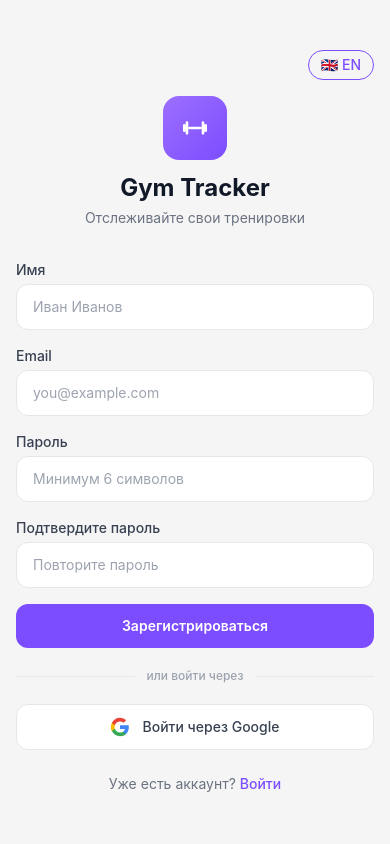
Test: Register Page — пользовательские сценарии › показывает ошибку если пароли не совпадают
Step 1. Type "Иван" into the field with placeholder "Иван Иванов" → {"x": 195, "y": 307}, box [16,284,374,330]
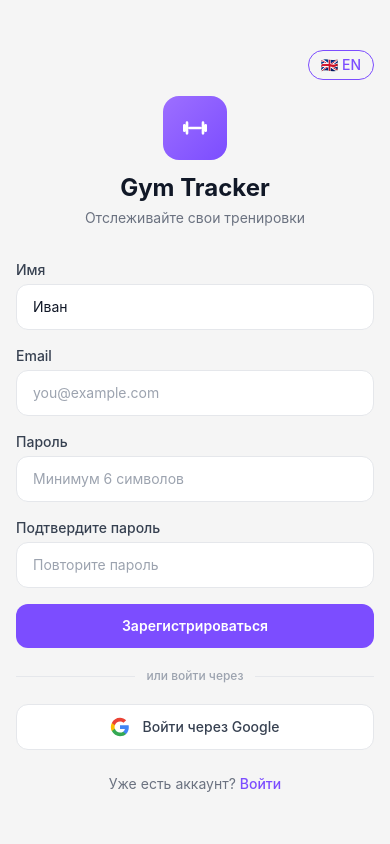
Step 2. Type "ivan@test.com" into the field with placeholder "you@example.com" → {"x": 195, "y": 393}, box [16,370,374,416]
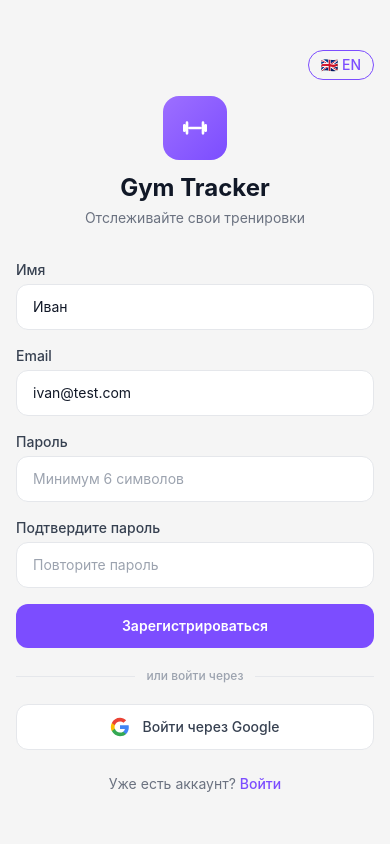
Step 3. Type "password123" into the password field with placeholder "Минимум 6 символов" → {"x": 195, "y": 479}, box [16,456,374,502]
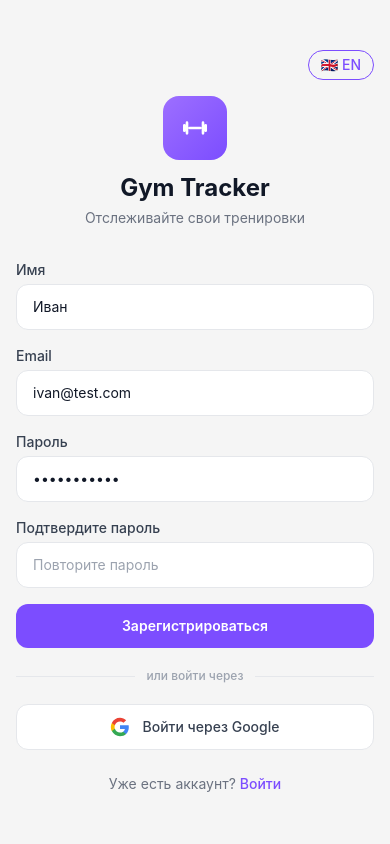
Step 4. Type "password456" into the password field with placeholder "Повторите пароль" → {"x": 195, "y": 565}, box [16,542,374,588]
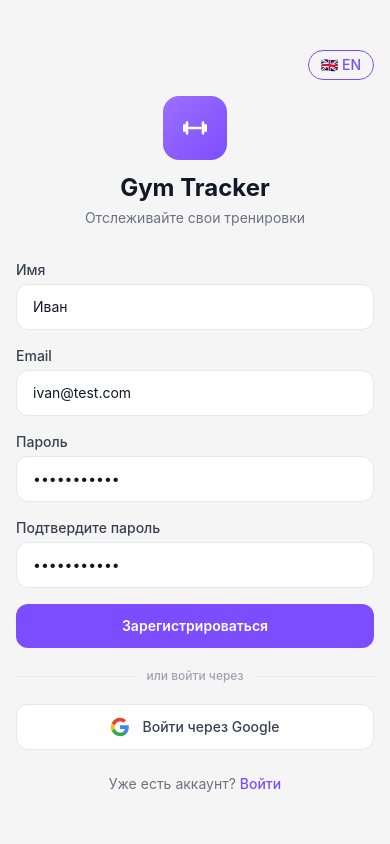
Step 5. Click the button "Зарегистрироваться" → {"x": 195, "y": 626}, box [16,604,374,648]
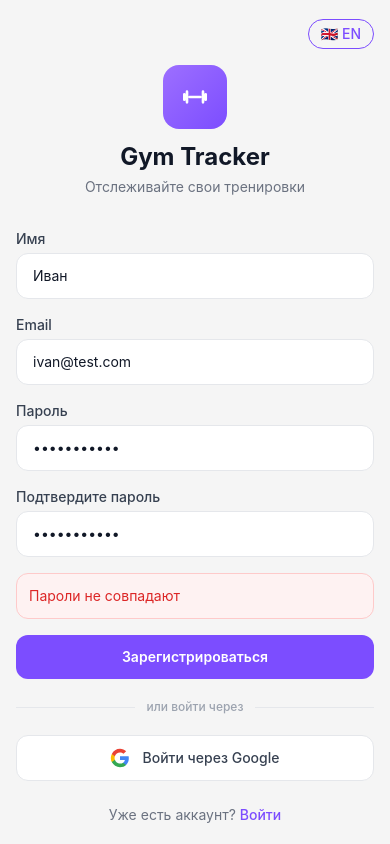
Check: the text "Пароли не совпадают" is shown, box [16,573,374,619]
